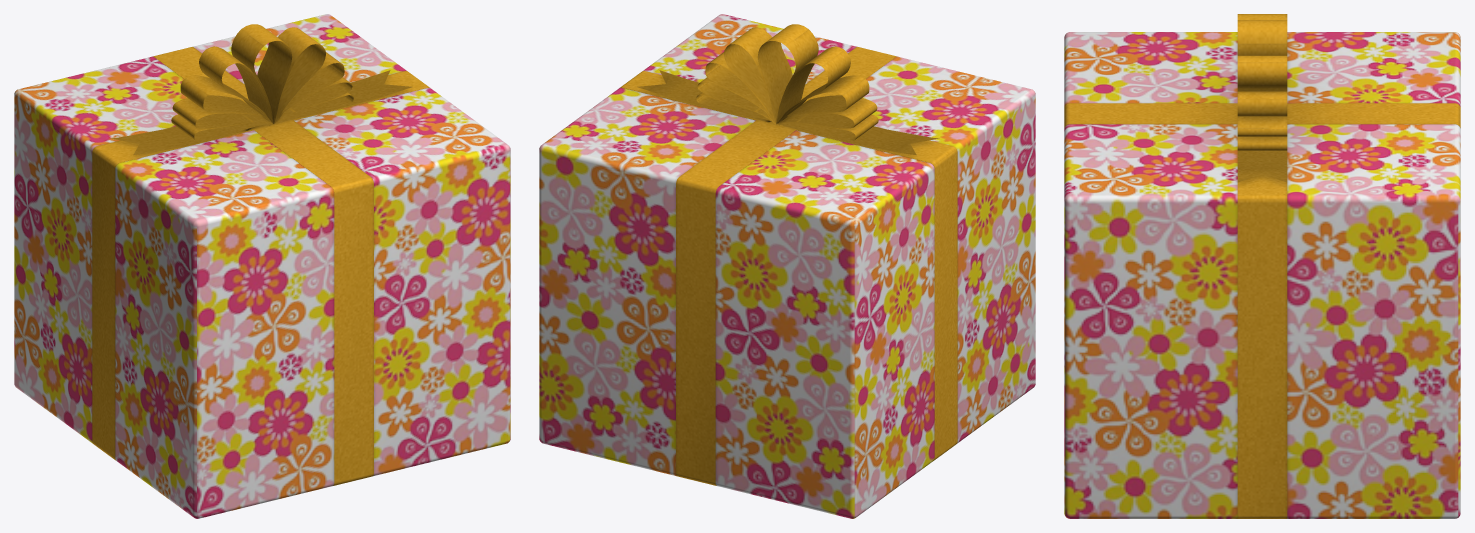
The model's file is gift.fbx.
The picture shows the model from 3 angles, left to right: view 1: azimuth 30°, elevation 25°; view 2: azimuth 150°, elevation 25°; view 3: azimuth 270°, elevation 25°; orthographic projection. The views are drawn at different scales.
Visible parts, largest first — view 1: gift; view 2: gift; view 3: gift.
Part boxes in pixels (x1=…): gift: x1=14, y1=14, x2=510, y2=518; gift: x1=539, y1=14, x2=1035, y2=518; gift: x1=1064, y1=14, x2=1460, y2=518.
Bounding box in the file's own units: 1.15 × 1.33 × 1.15.
